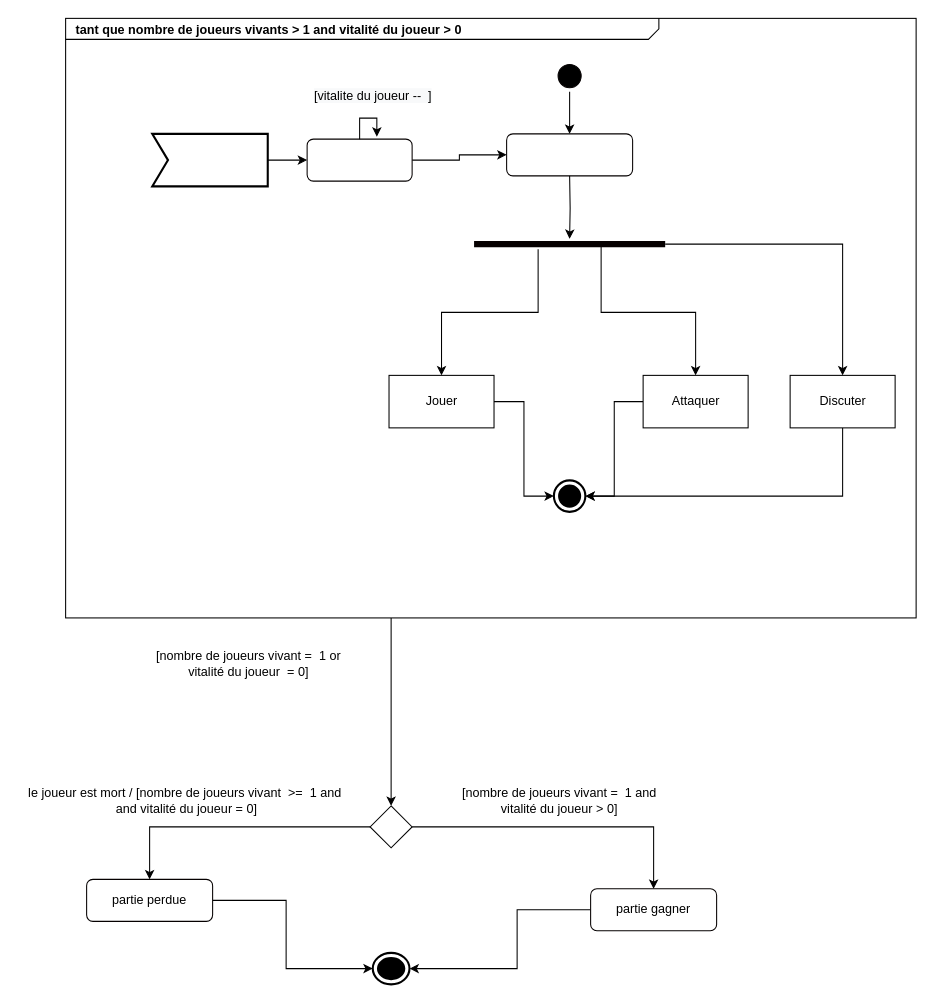
The diagram is 934 pixels wide and 1004 high, and some of its shapes have lost their labels. Here are the shapes that lost their labels. From the top down, the centre of each, then its label:
At [209,159]: "reçois attaque".
At [359,159]: "baisse de vitalité".
At [569,154]: "commencer le jeu".
